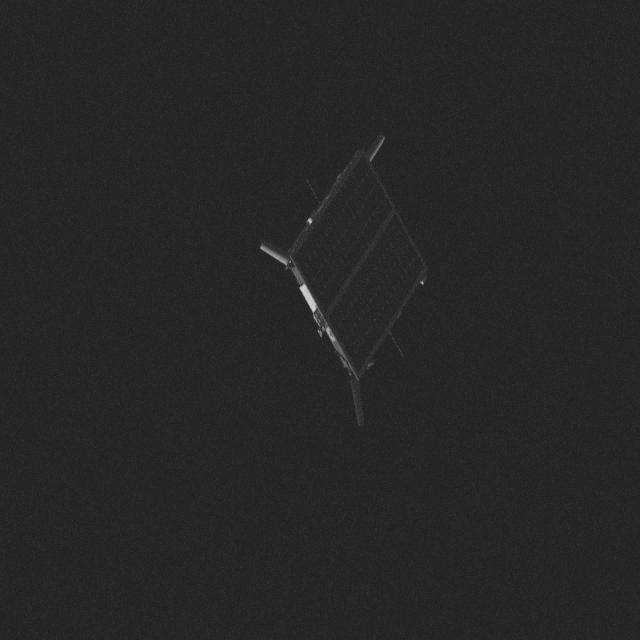medium_debris: (262, 128, 446, 438)
